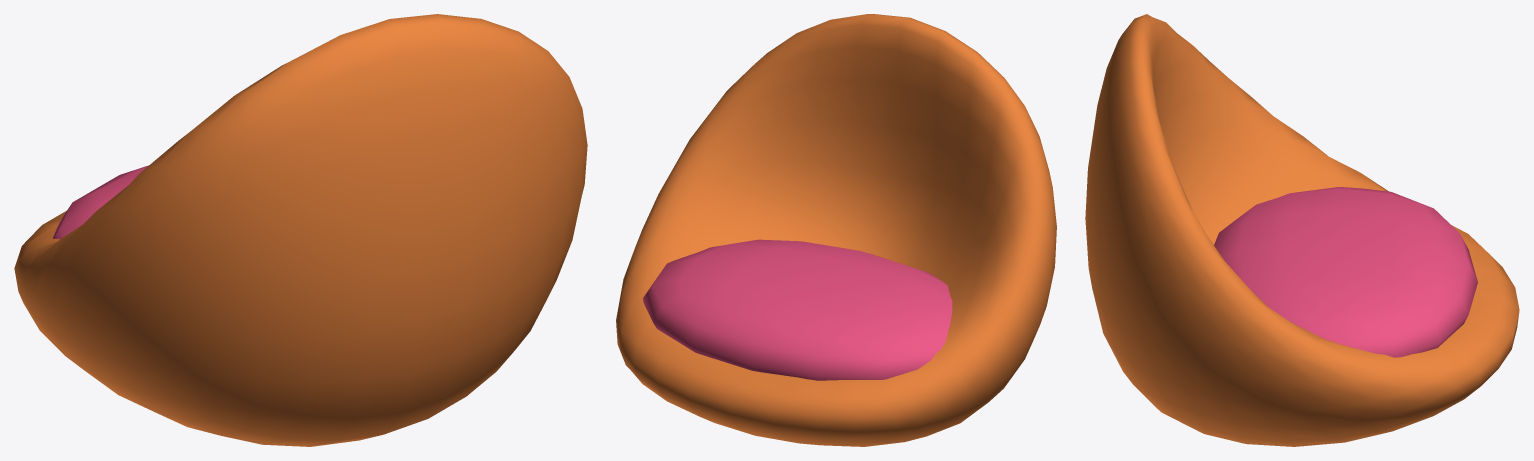
The model's file is Cama_PET.fbx.
3 views of the same model, side by side, from view 1: azimuth 30°, elevation 25°; view 2: azimuth 150°, elevation 25°; view 3: azimuth 270°, elevation 25° (orthographic). The views are drawn at different scales.
Visible parts, largest first — view 1: Cama, Almofada; view 2: Cama, Almofada; view 3: Cama, Almofada.
Boxes of the visible parts, bbox=[...] form: Cama: bbox=[14, 14, 587, 446]; Almofada: bbox=[53, 165, 148, 239]; Cama: bbox=[616, 14, 1056, 446]; Almofada: bbox=[643, 239, 952, 380]; Cama: bbox=[1085, 14, 1519, 446]; Almofada: bbox=[1214, 187, 1477, 357].
Bounding box in the file's own units: 392 × 344 × 356.
